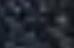five: (17, 19, 22, 27), (30, 19, 35, 27), (48, 20, 53, 28)
one: (23, 19, 28, 27)
seven: (42, 20, 47, 28)
two: (36, 19, 41, 28)
